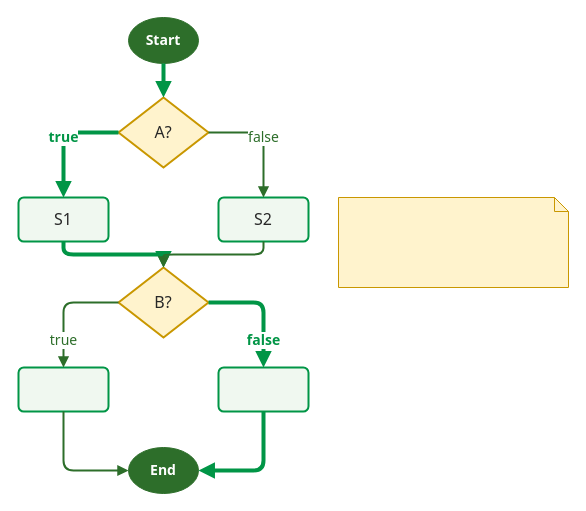
This 586x511 diagram has some shape labels left out. Here are the shapes that lost their labels. From the top down, the box of each, then its label:
(338, 196, 568, 288): Test case A = true, B = false executes the green path: Start → S1 → S4 → End
(17, 366, 109, 412): S3
(217, 366, 309, 412): S4
